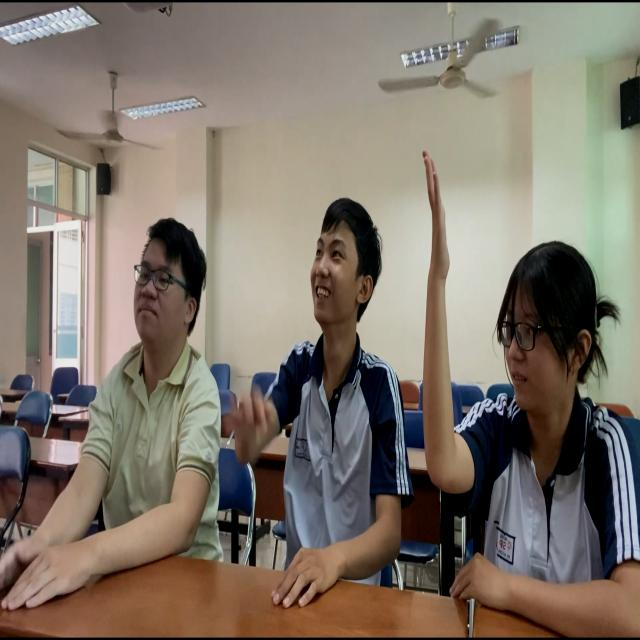raise_hand: (394, 128, 640, 640)
